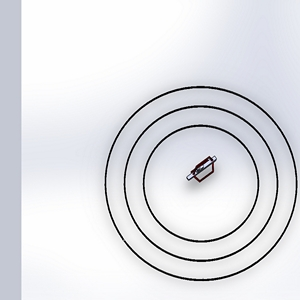circle: (99, 79, 299, 285)
submarine: (182, 147, 224, 197)
